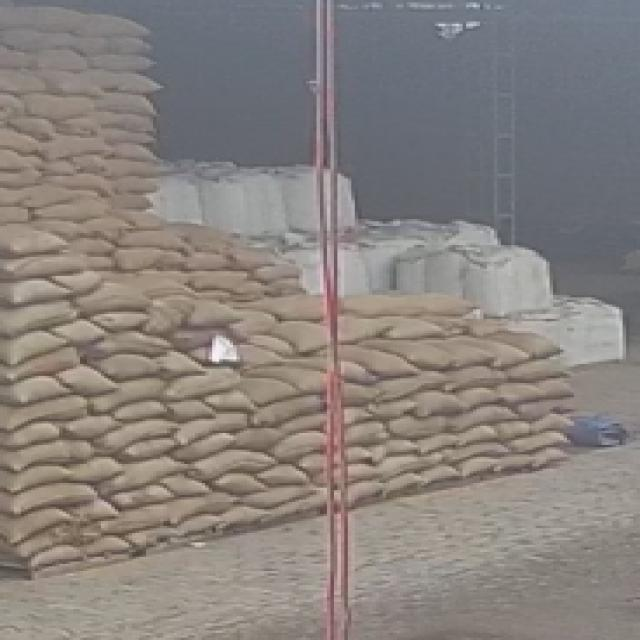Sack-2: (81, 372, 165, 415), (247, 390, 331, 428), (96, 414, 178, 452), (0, 503, 72, 546), (3, 396, 84, 434), (103, 455, 175, 496), (1, 482, 90, 514), (7, 523, 76, 562), (0, 440, 84, 470), (0, 326, 59, 365), (380, 336, 454, 367), (76, 283, 152, 312), (23, 540, 85, 573), (0, 372, 63, 404), (56, 365, 117, 396), (174, 368, 234, 399), (389, 410, 446, 440), (235, 374, 289, 404), (344, 348, 408, 373), (1, 466, 64, 490), (84, 311, 154, 332), (54, 315, 101, 346), (120, 434, 173, 460), (277, 428, 321, 459), (2, 424, 56, 449), (227, 424, 281, 449), (113, 397, 164, 423), (276, 411, 333, 434), (117, 480, 159, 511), (12, 276, 58, 304), (408, 391, 463, 413), (422, 427, 462, 457), (160, 474, 214, 496), (215, 472, 261, 496), (373, 378, 417, 403), (203, 392, 254, 412), (266, 460, 299, 490), (371, 398, 408, 422), (344, 424, 388, 442), (67, 269, 93, 299), (165, 471, 195, 496), (385, 434, 413, 459)
